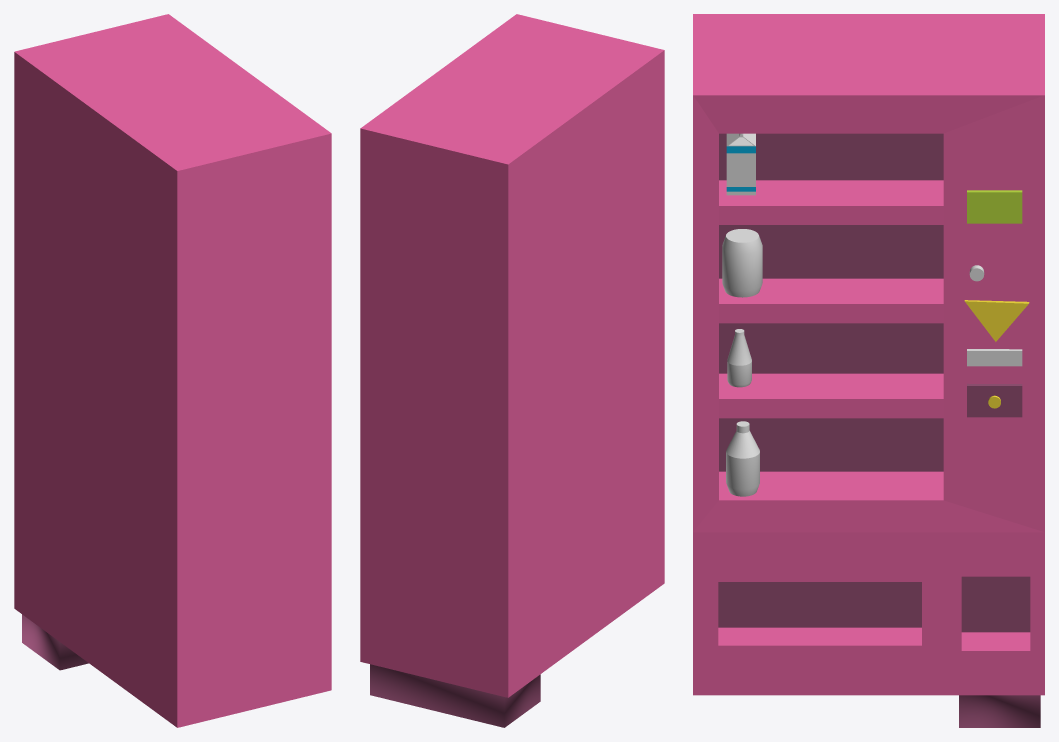
Rendered from fending_machine_compresed.glb.
3 views of the same model, side by side, from view 1: azimuth 30°, elevation 25°; view 2: azimuth 150°, elevation 25°; view 3: azimuth 270°, elevation 25° (orthographic). The views are drawn at different scales.
Parts seen in each view (by area): view 1: Cube, Cube.003, Cube.004; view 2: Cube, Cube.003, Cube.004; view 3: Cube, Cube.003, Cube.004, Cylinder.002, Cylinder.004, Cube.001, Cube.005, Cube.002, Circle, Cylinder.003, Cube.006.
Boxes of the visible parts, x1,y1,x2,y2 form: Cube: [14, 14, 331, 576]; Cube.003: [14, 458, 331, 727]; Cube.004: [22, 614, 88, 670]; Cube: [360, 14, 664, 552]; Cube.003: [360, 439, 664, 697]; Cube.004: [370, 664, 540, 727]; Cube: [693, 14, 1044, 532]; Cube.003: [693, 532, 1044, 695]; Cube.004: [959, 695, 1040, 727]; Cylinder.002: [722, 229, 762, 297]; Cylinder.004: [726, 421, 759, 496]; Cube.001: [967, 190, 1022, 223]; Cube.005: [726, 133, 755, 195]; Cube.002: [967, 383, 1022, 417]; Circle: [964, 300, 1029, 341]; Cylinder.003: [727, 329, 751, 387]; Cube.006: [967, 349, 1022, 366].
Size of what is drawn, in the model's own units: 1.8 by 6.38 by 3.19.
